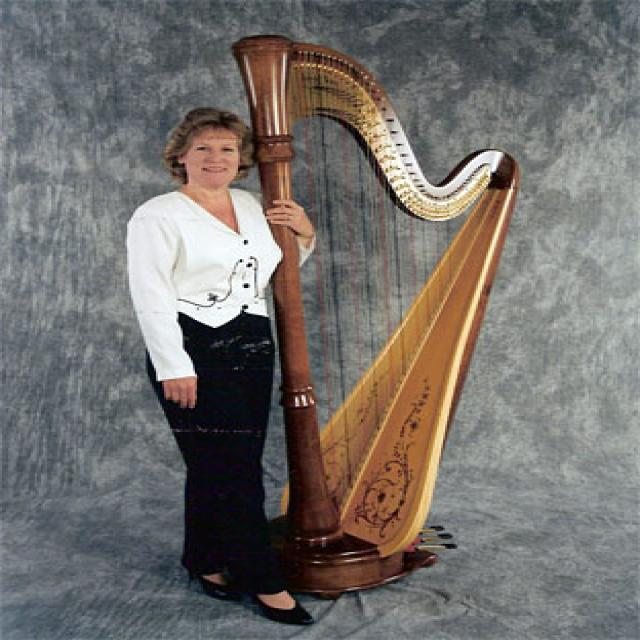harp: (220, 28, 530, 602)
